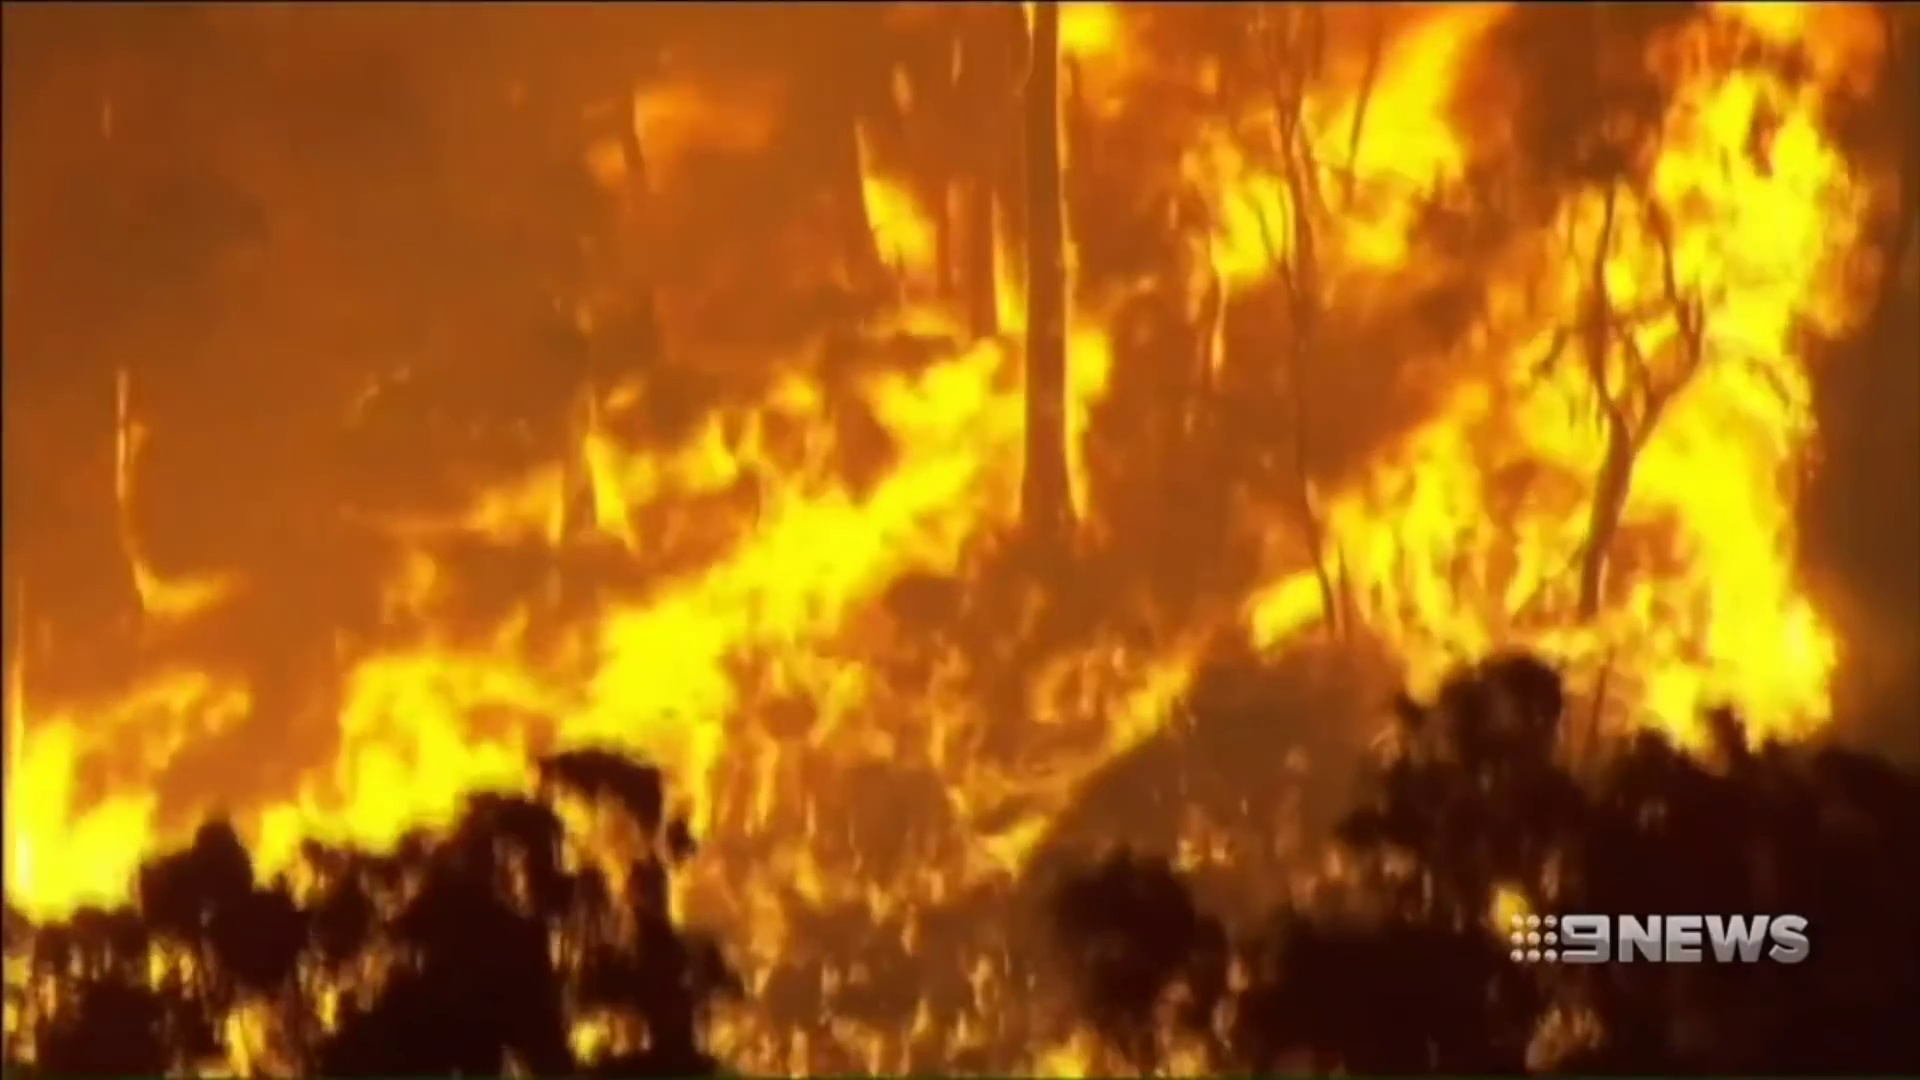fire: (328, 334, 1112, 843), (1390, 7, 1859, 733), (1062, 5, 1379, 323), (7, 712, 167, 916)
